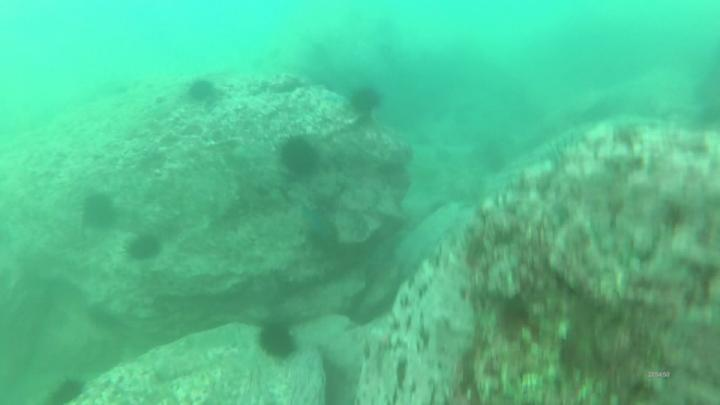echinus: (260, 322, 295, 358), (284, 138, 319, 172), (86, 197, 113, 226), (351, 87, 381, 109), (53, 384, 83, 403), (191, 81, 215, 101), (135, 240, 160, 256)
starfish: (299, 207, 327, 242)
